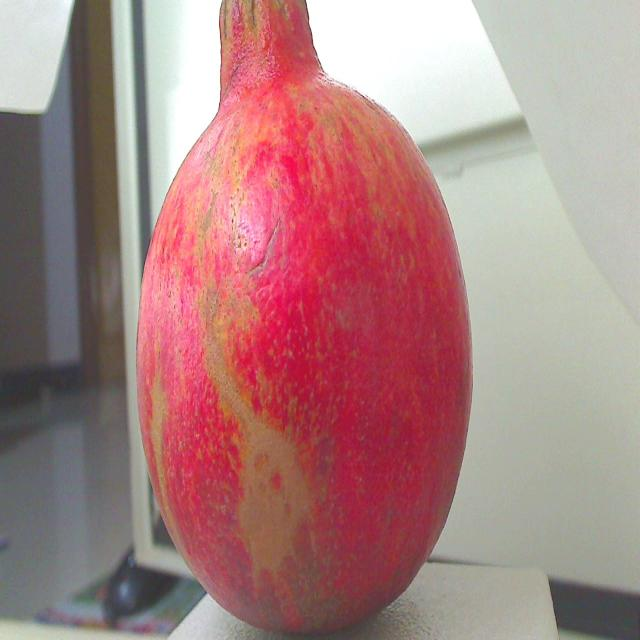pomegranate: (126, 0, 484, 640)
